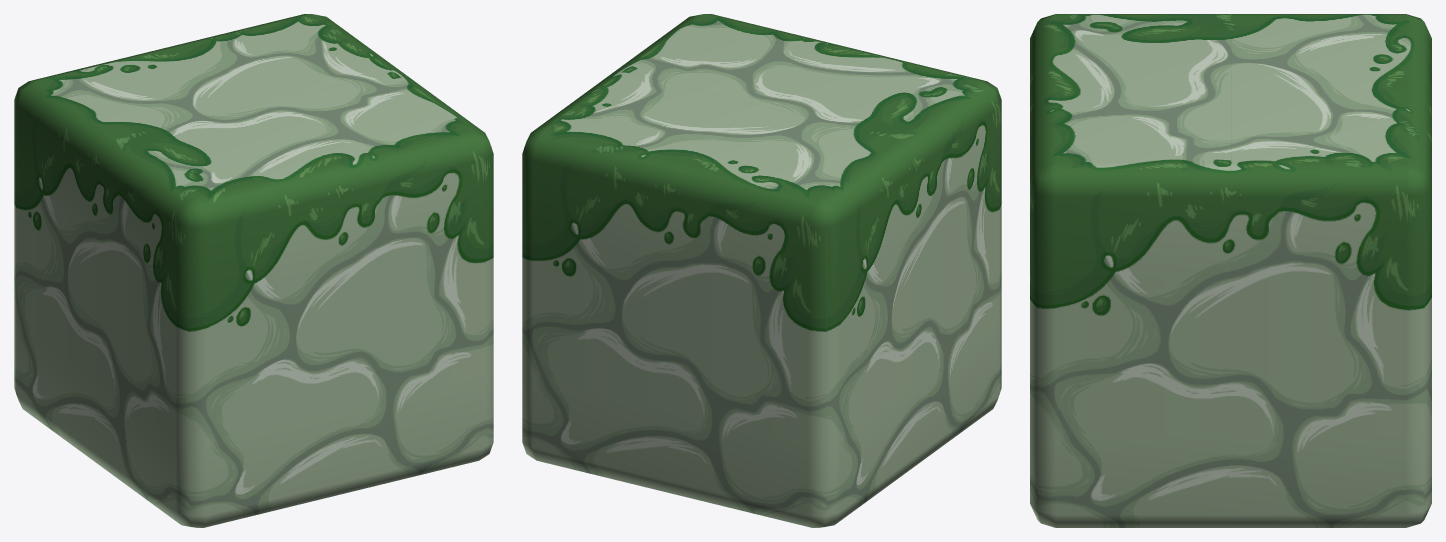
File: Lego1.fbx
3 renders of one model, left to right at view 1: azimuth 30°, elevation 25°; view 2: azimuth 150°, elevation 25°; view 3: azimuth 270°, elevation 25°, orthographic. The views are drawn at different scales.
Visible parts, largest first — view 1: LEGOFloor1; view 2: LEGOFloor1; view 3: LEGOFloor1.
Boxes of the visible parts, x1=… form: LEGOFloor1: x1=14, y1=14, x2=493, y2=527; LEGOFloor1: x1=522, y1=14, x2=1001, y2=527; LEGOFloor1: x1=1030, y1=14, x2=1431, y2=527.
Bounding box in the file's own units: 10 × 10 × 10.
1 material, 1 textured.
